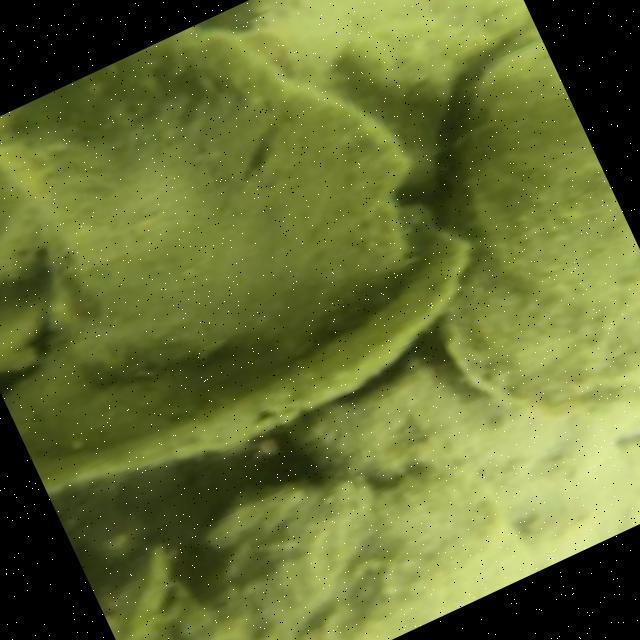Oyster-Closed: (0, 25, 414, 387), (3, 196, 476, 495), (441, 41, 640, 415), (203, 467, 539, 640)
